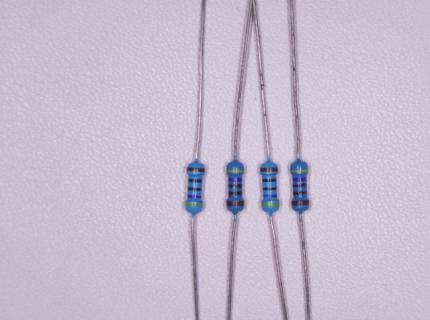Black band: (292, 190, 308, 196), (228, 191, 242, 197), (187, 187, 202, 192), (188, 178, 203, 183), (292, 183, 307, 188), (228, 184, 242, 189), (262, 178, 276, 182), (263, 187, 277, 191)
Brown band: (291, 200, 310, 207), (186, 166, 205, 173), (226, 200, 245, 206), (260, 167, 278, 172)
Violet band: (187, 194, 202, 199), (293, 177, 307, 182), (228, 178, 242, 183), (263, 194, 277, 198)
Yellow band: (185, 202, 203, 207), (261, 203, 280, 207), (226, 169, 244, 173), (290, 169, 308, 173)
